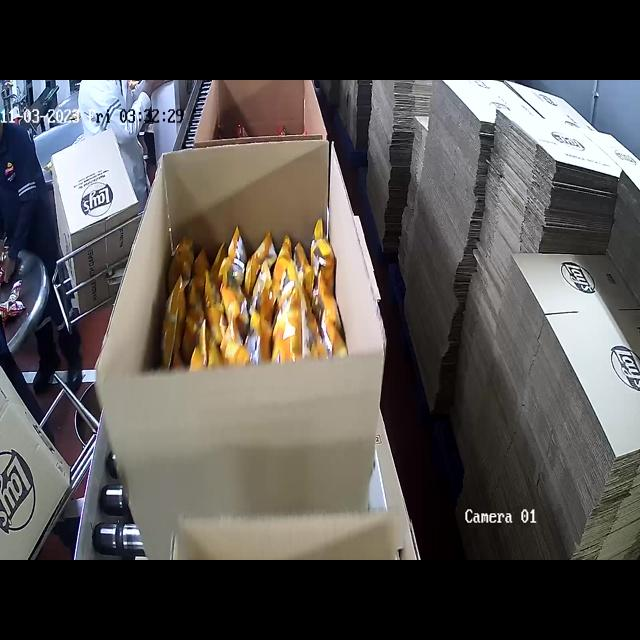cheese: (169, 211, 331, 364)
